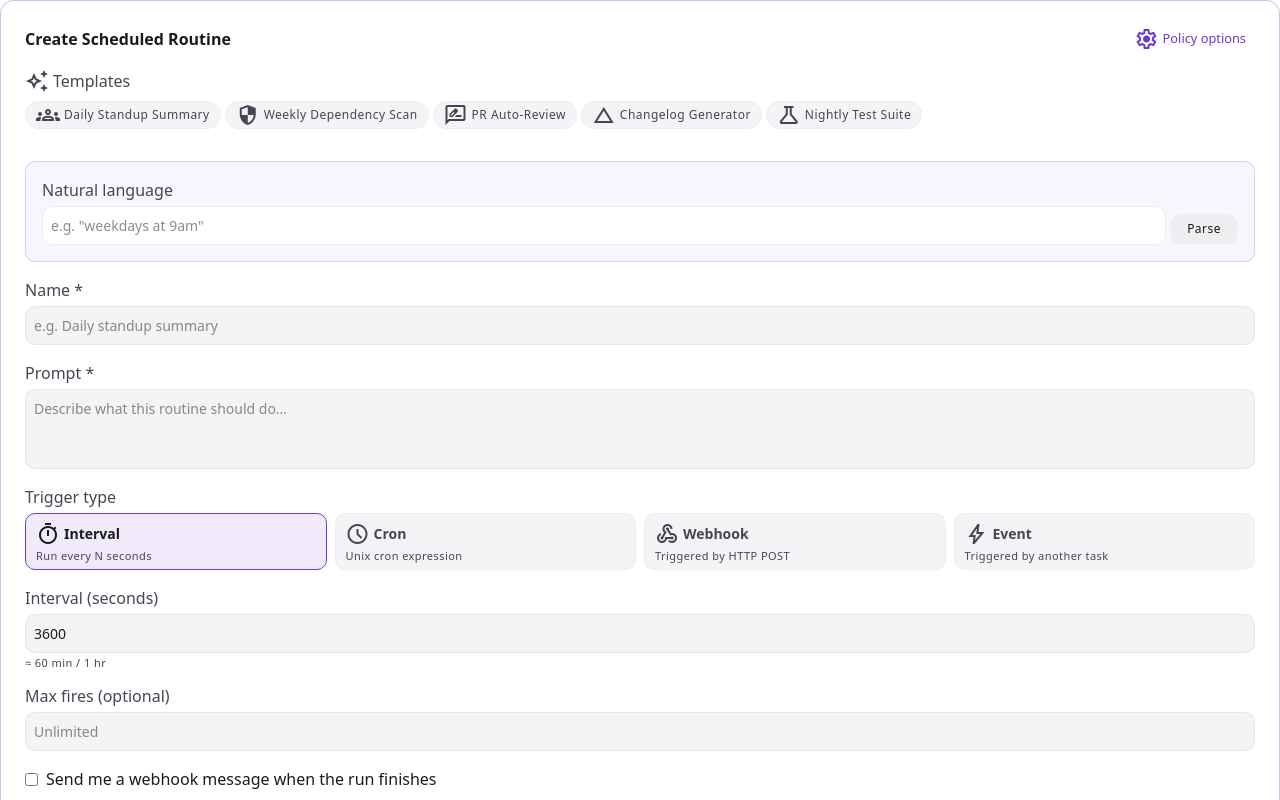
Test: ScheduleForm › reveals policy fields on toggle with max_retries default 2
The image size is (1280, 800).
Step 1. Click the button "Policy options" → x=1190, y=39, box [1126,25,1255,53]
(page scrolled)
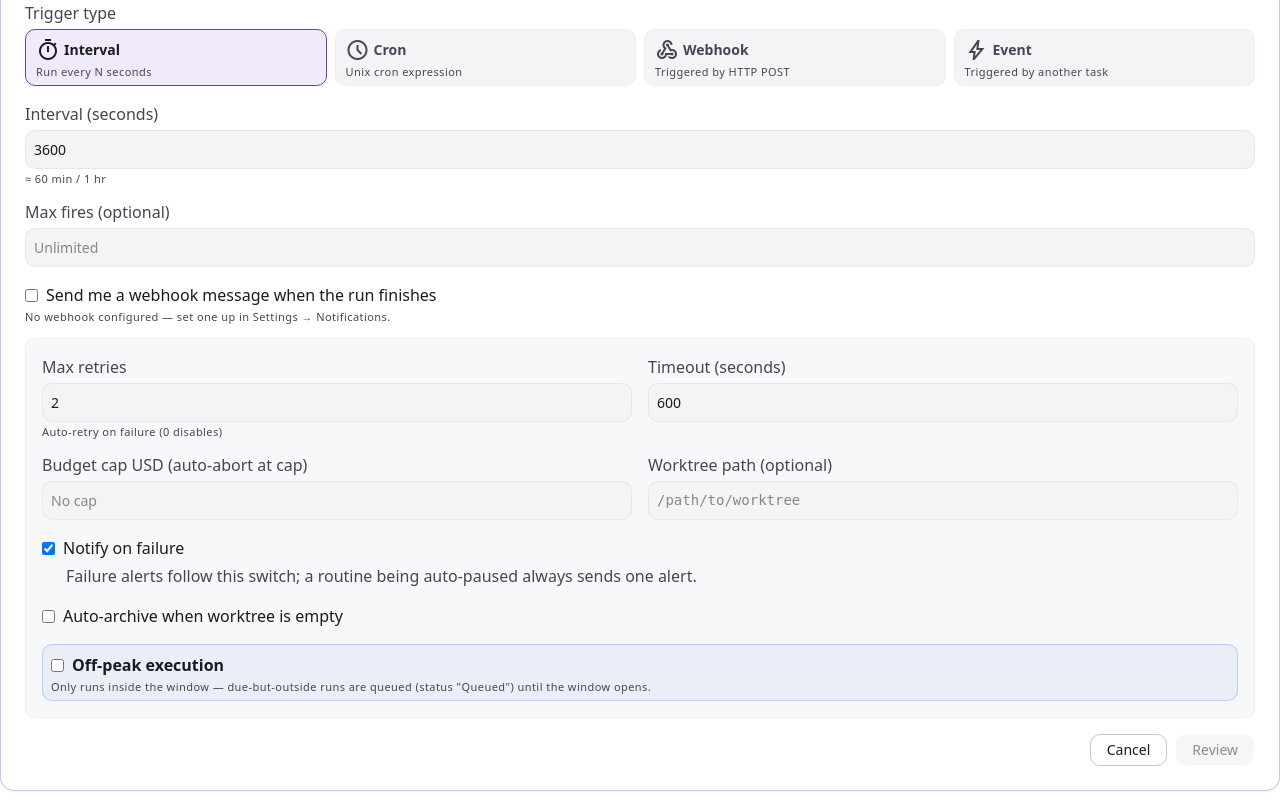
Result: the text "Max retries" is shown at [42,356,127,378]
Result: the number field showing "2" is shown at [42,383,632,422]
Result: the text "Timeout (seconds)" is shown at [648,356,786,378]
